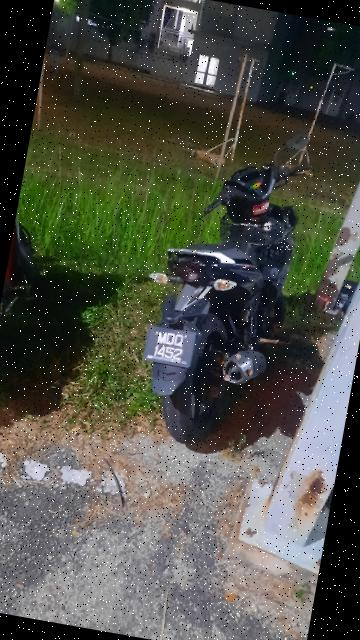License_Plate: (135, 322, 206, 377)
motorcycle: (111, 99, 335, 460)
